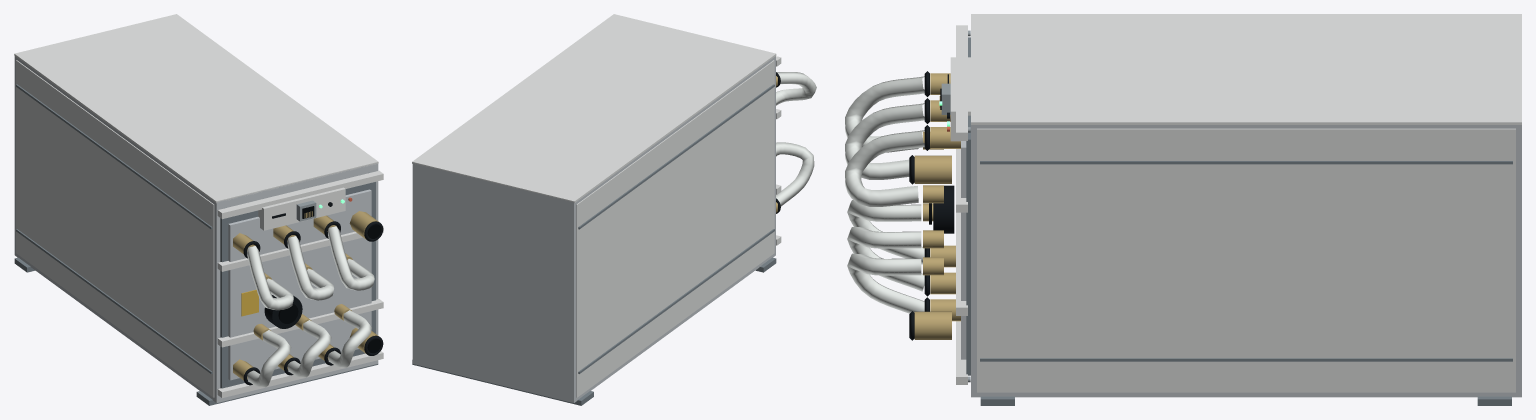
File: antminer-s21-hydro.glb
3 views of the same model, side by side, from view 1: azimuth 30°, elevation 25°; view 2: azimuth 150°, elevation 25°; view 3: azimuth 270°, elevation 25° (orthographic). The views are drawn at different scales.
Parts seen in each view (by area): view 1: housing_light, housing_silver, housing_hose, housing_edge, housing_brass, housing_black, housing_port, housing_yellow; view 2: housing_light, housing_silver, housing_edge, housing_hose; view 3: housing_light, housing_hose, housing_silver, housing_edge, housing_brass, housing_black.
Part boxes in pixels (<box>): housing_light: <box>14,14,383,398</box>; housing_silver: <box>14,56,378,402</box>; housing_hose: <box>247,226,374,387</box>; housing_edge: <box>14,84,378,405</box>; housing_brass: <box>233,211,378,380</box>; housing_black: <box>243,202,383,385</box>; housing_port: <box>278,206,380,353</box>; housing_yellow: <box>241,289,258,316</box>; housing_light: <box>412,14,781,397</box>; housing_silver: <box>412,56,775,402</box>; housing_edge: <box>412,84,776,405</box>; housing_hose: <box>776,72,816,206</box>; housing_light: <box>950,14,1521,392</box>; housing_hose: <box>845,76,924,313</box>; housing_silver: <box>961,125,1521,397</box>; housing_edge: <box>966,37,1512,405</box>; housing_brass: <box>914,73,960,339</box>; housing_black: <box>909,71,954,340</box>.
Size of the model in its own units: 0.178 by 0.2075 by 0.452.
